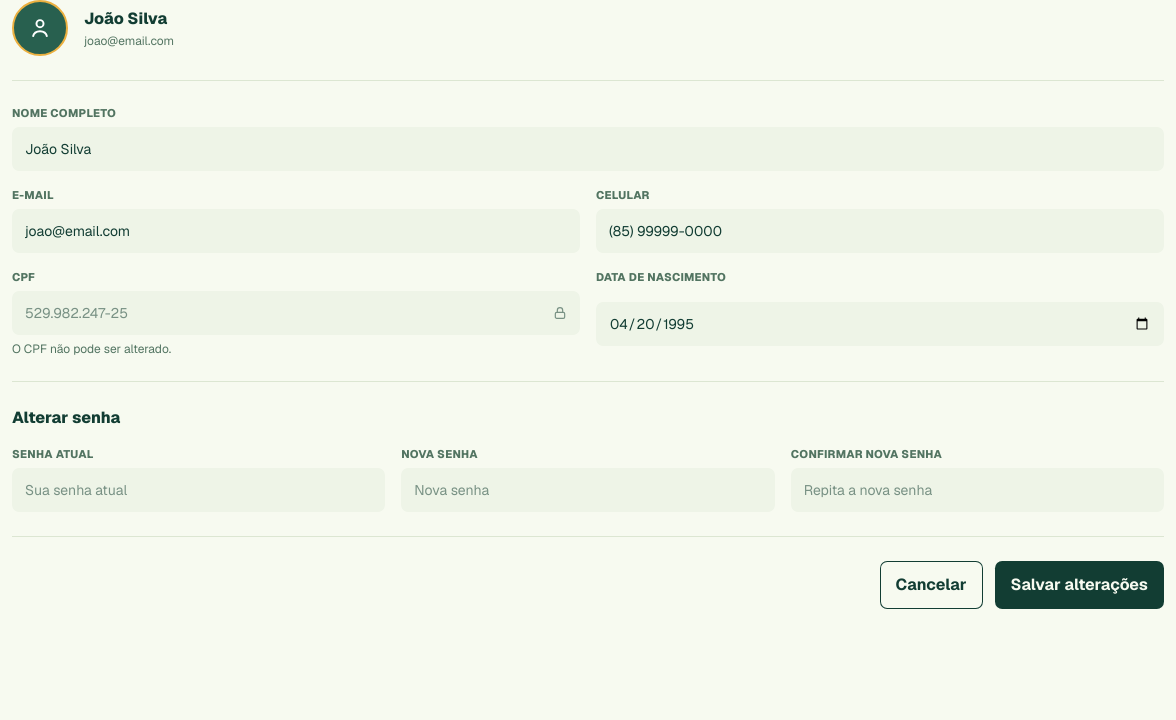
it: FormularioEdicaoPerfil › troca só a senha, sem enviar dados que não mudaram
Step 1. Type "senha-antiga-1" into the password field labelled "Senha atual" → x=199, y=490, box [12,468,385,512]
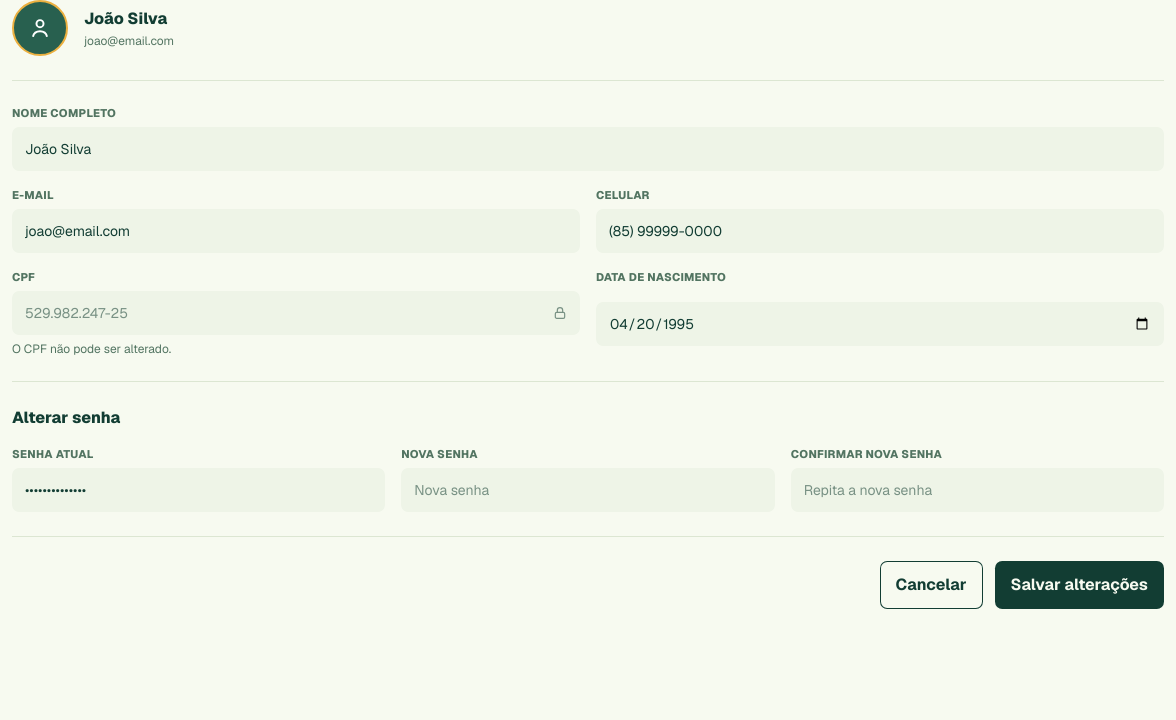
Step 2. Type "senha-nova-123" into the password field labelled "Nova senha" → x=588, y=490, box [401,468,775,512]
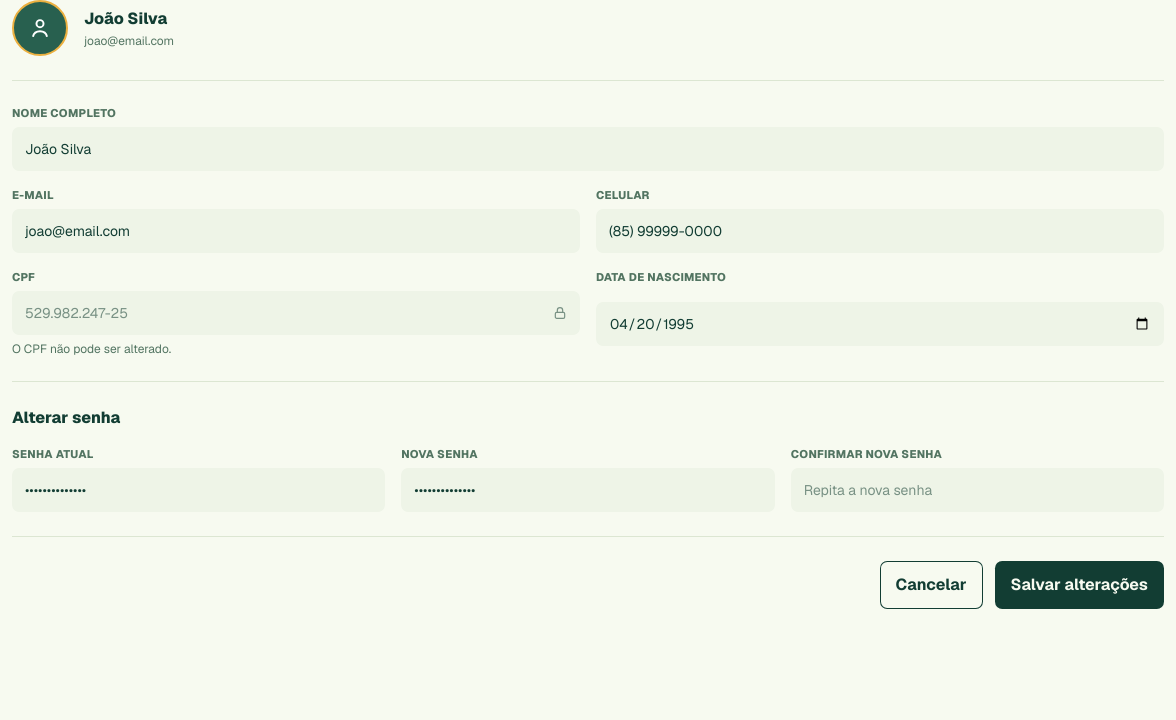
Step 3. Type "senha-nova-123" into the password field labelled "Confirmar nova senha" → x=977, y=490, box [791,468,1164,512]
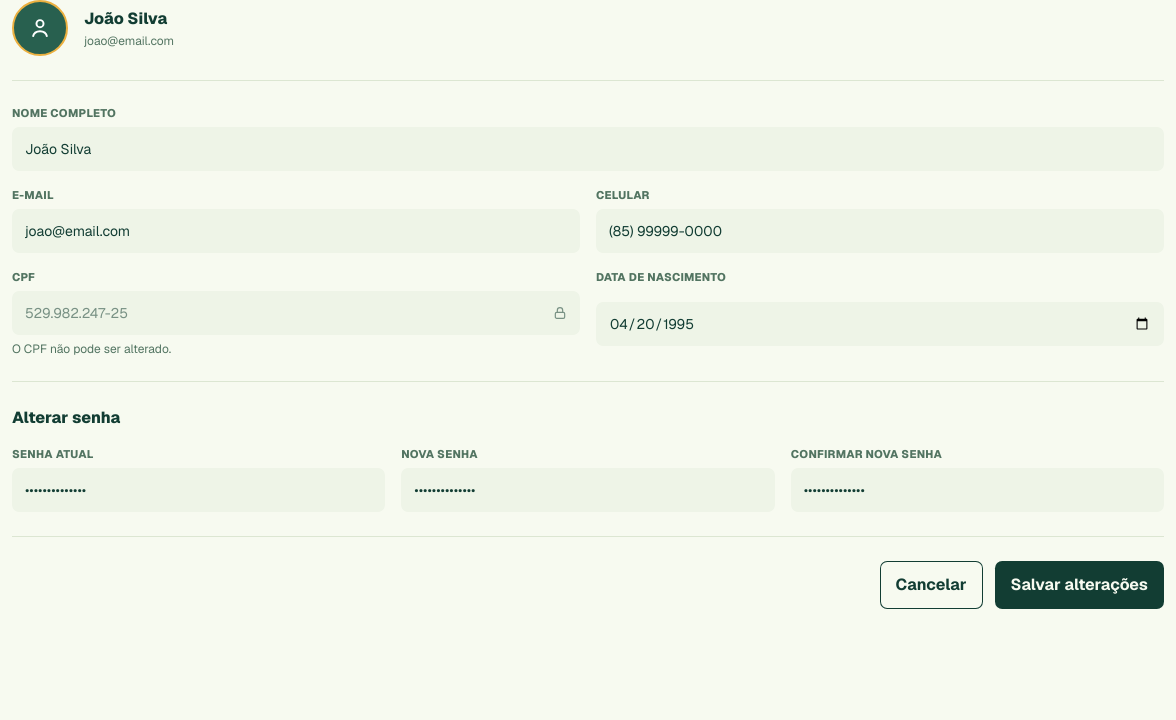
Step 4. Click the button "Salvar alterações" → x=1079, y=585, box [995,561,1164,609]
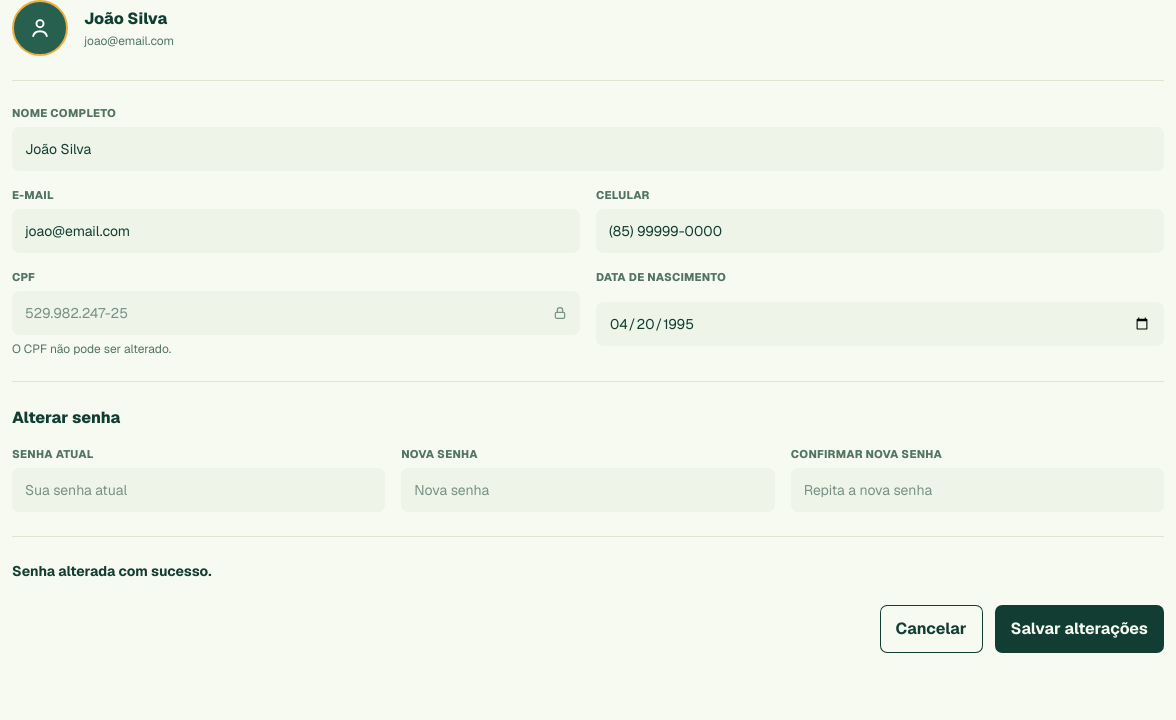
expect the text "Senha alterada com sucesso." is shown: met, box [12,562,212,580]
expect the password field labelled "Senha atual" is empty: met, box [12,468,385,512]
